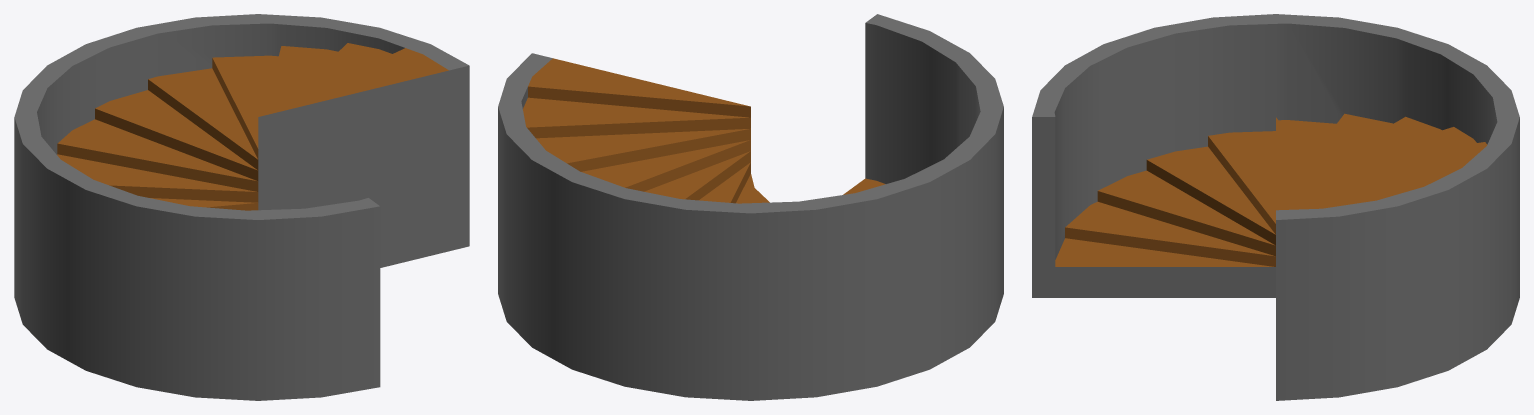
File: Dungeon_Tiles_Modular_Stairs_Spiral_Large_Timber_04.fbx
3 renders of one model, left to right at view 1: azimuth 30°, elevation 25°; view 2: azimuth 150°, elevation 25°; view 3: azimuth 270°, elevation 25°, orthographic. The views are drawn at different scales.
Parts seen in each view (by area): view 1: Dungeon_Tiles_Modular_Stairs_Spiral_Large_Timber_04; view 2: Dungeon_Tiles_Modular_Stairs_Spiral_Large_Timber_04; view 3: Dungeon_Tiles_Modular_Stairs_Spiral_Large_Timber_04.
Part boxes in pixels (x1,y1,x2,y2): Dungeon_Tiles_Modular_Stairs_Spiral_Large_Timber_04: [14, 14, 469, 400]; Dungeon_Tiles_Modular_Stairs_Spiral_Large_Timber_04: [498, 14, 1003, 400]; Dungeon_Tiles_Modular_Stairs_Spiral_Large_Timber_04: [1032, 14, 1519, 400].
Size of the model in its own units: 176 by 72 by 176.
